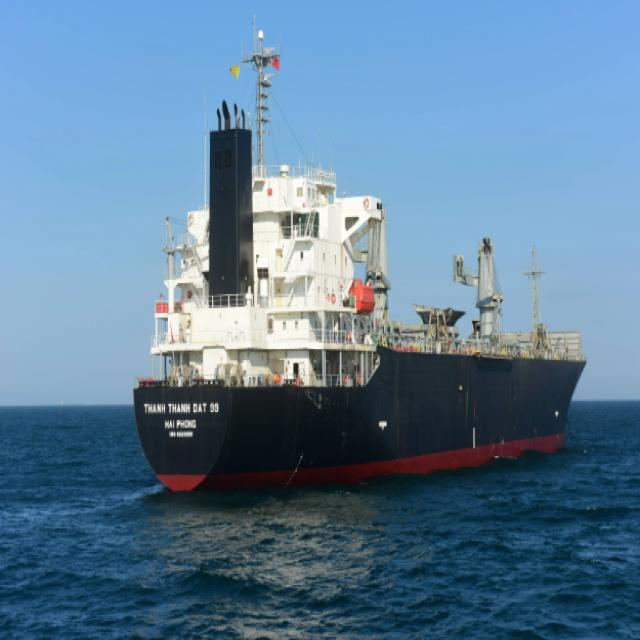cargoship: (129, 9, 609, 500)
